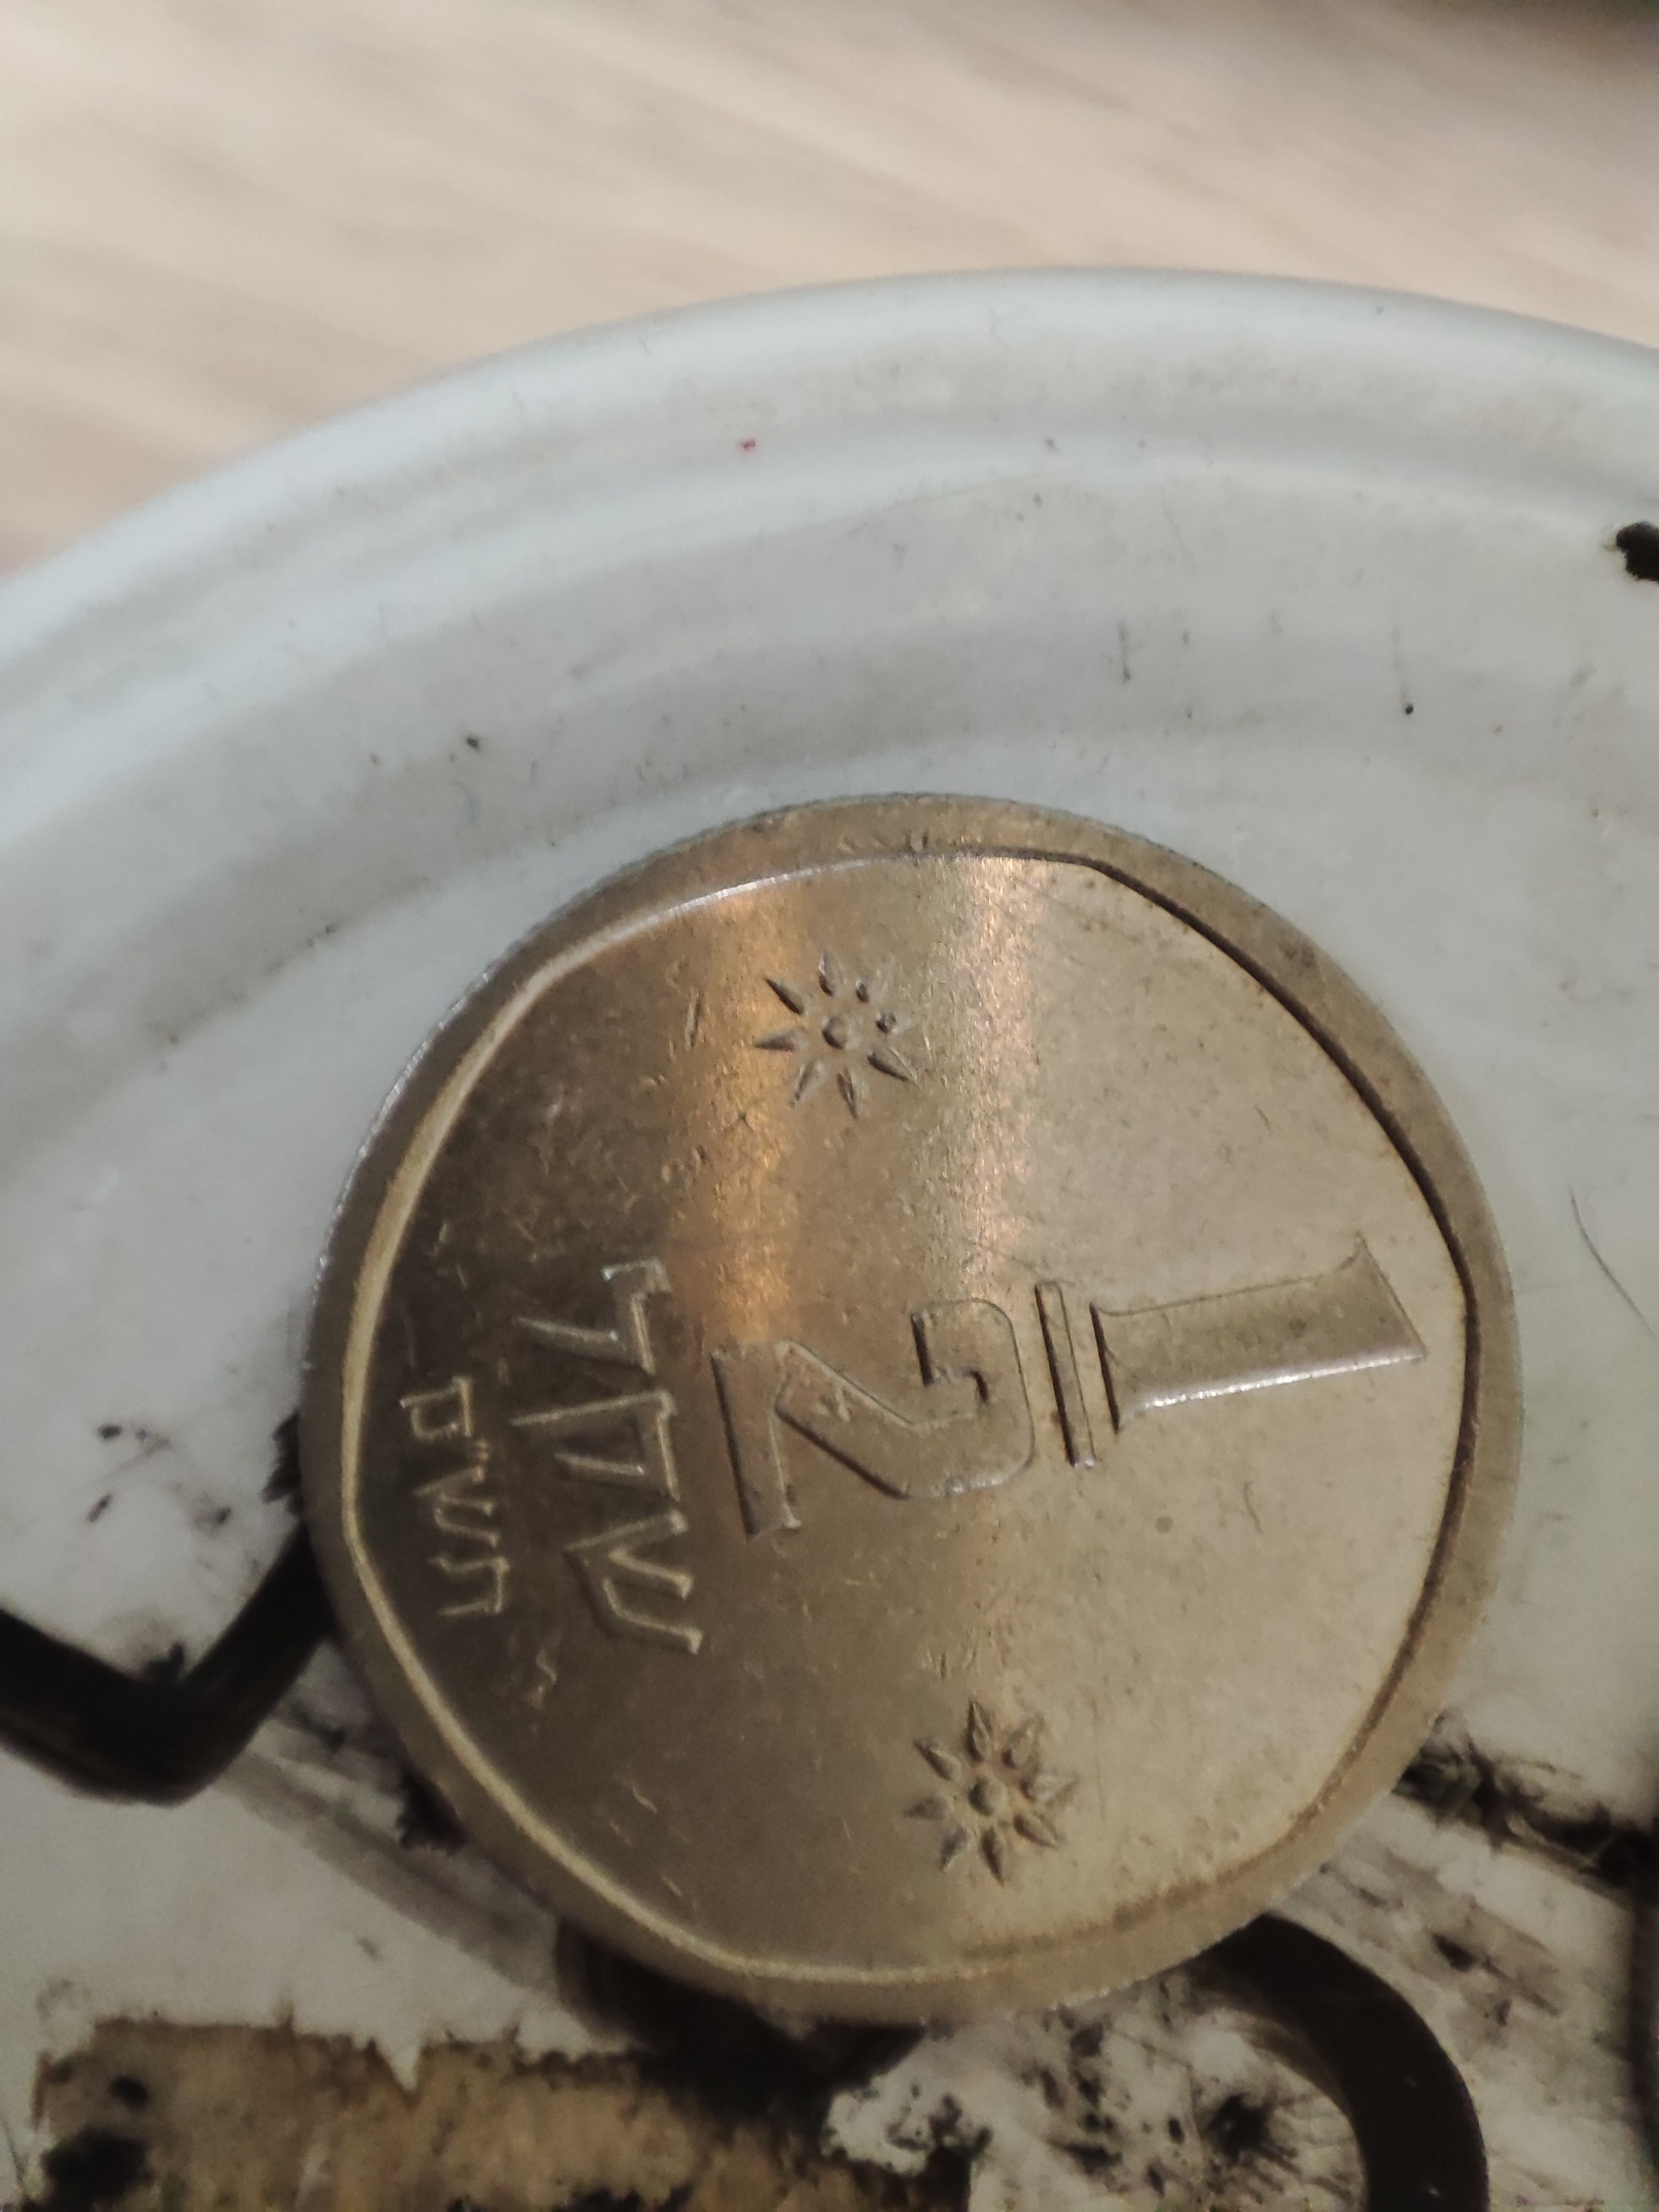1/2 old sheqel: (291, 782, 1542, 2036)
